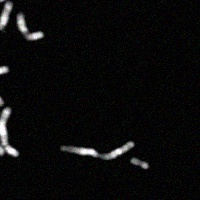chromosome: (59, 140, 134, 160), (0, 107, 18, 157), (17, 12, 43, 42), (0, 19, 8, 75), (0, 3, 13, 31), (130, 157, 148, 170), (0, 103, 4, 155), (0, 71, 4, 107), (0, 0, 36, 3)
